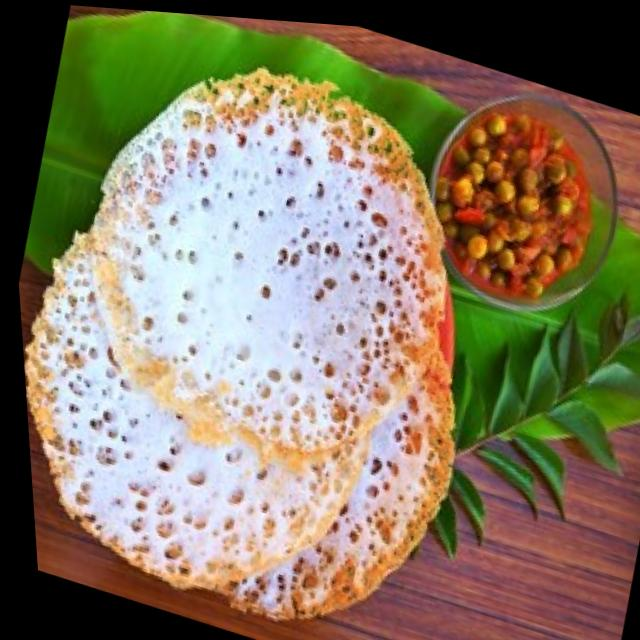AAPAM: (25, 73, 456, 621)
VEGGIES: (442, 108, 584, 294)
